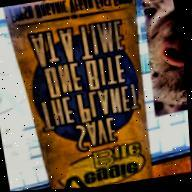boar: (135, 0, 188, 112)
